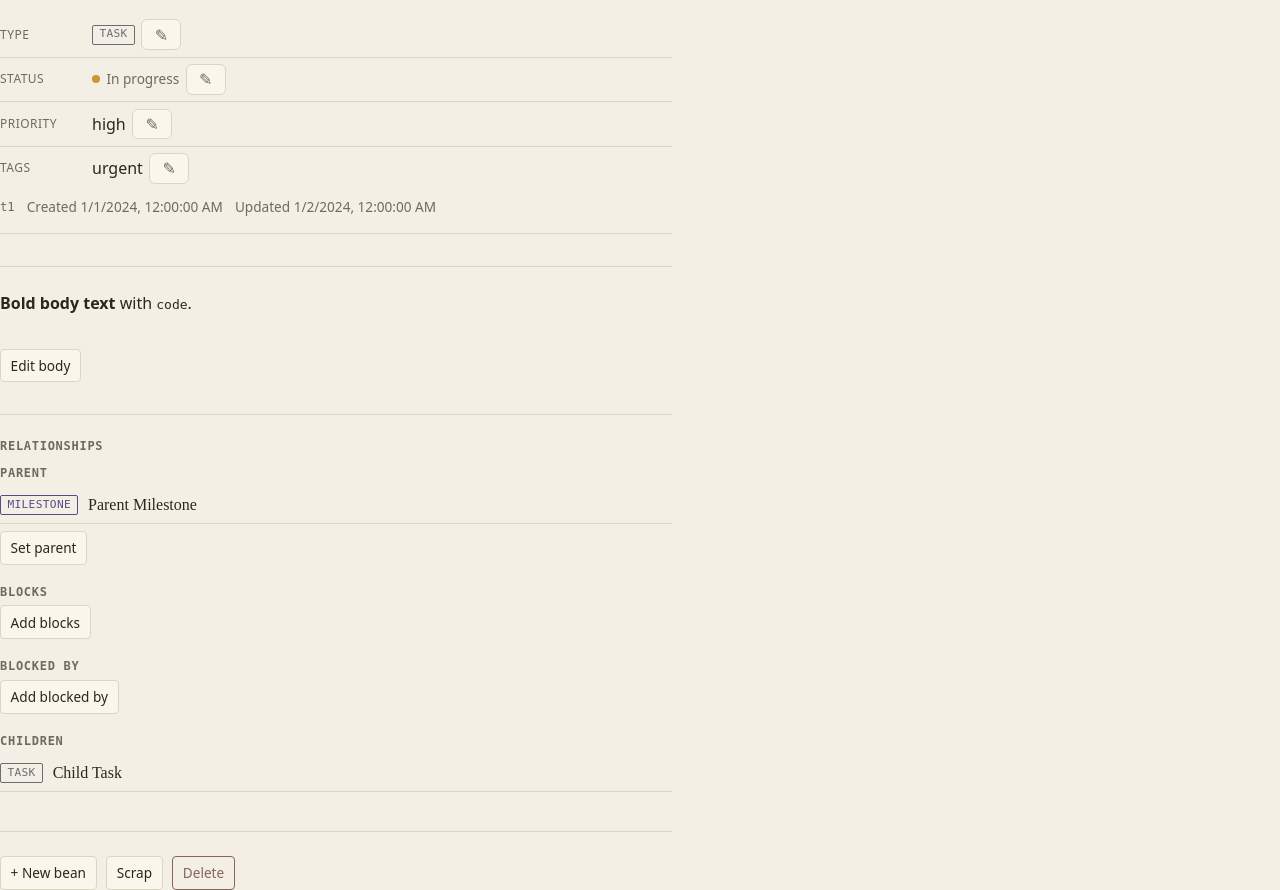
Test: BeanDetailPage › opens the scrap dialog without mutating anything
(page scrolled)
Click the button "Scrap": (134, 873) [106, 856, 163, 889]
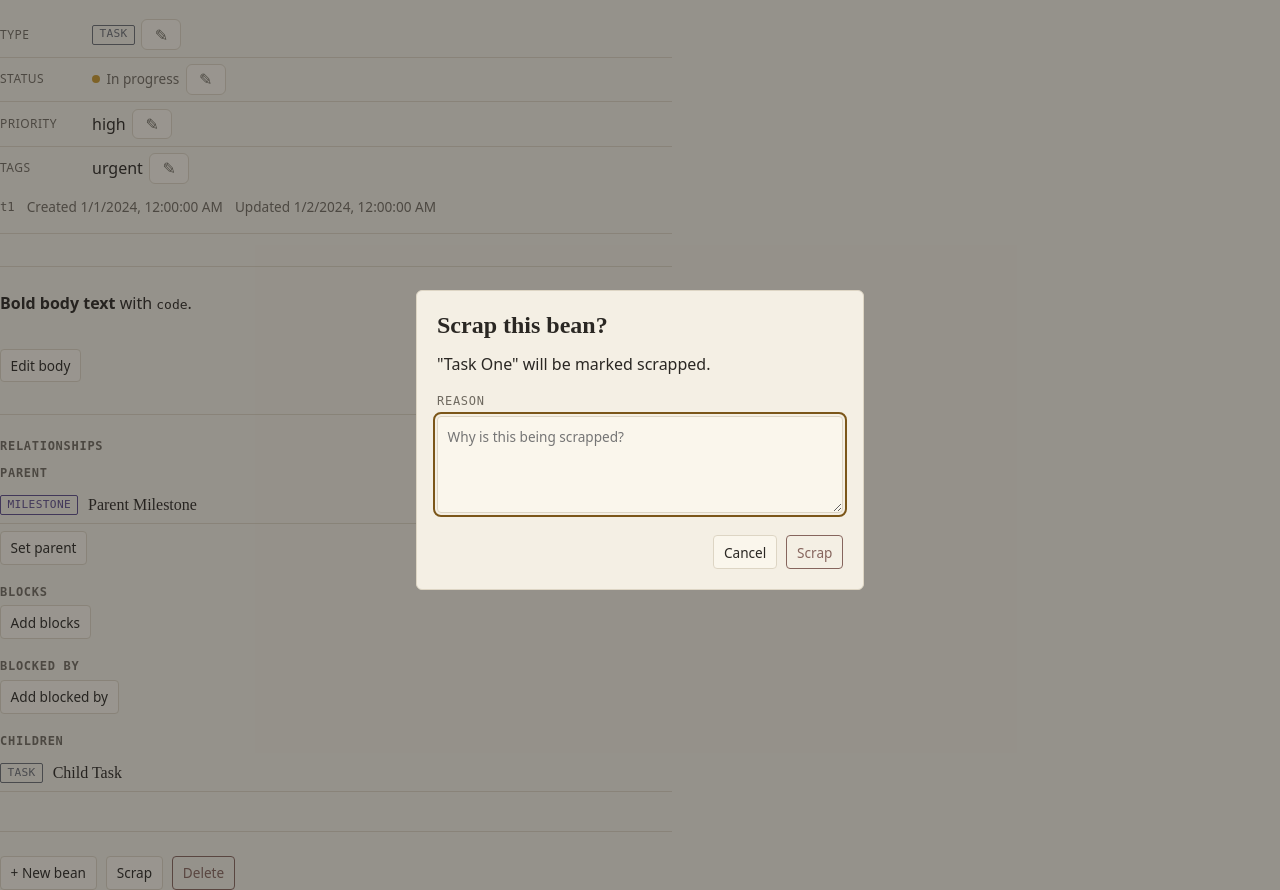
Result: the dialog is shown at [416, 290, 864, 590]
